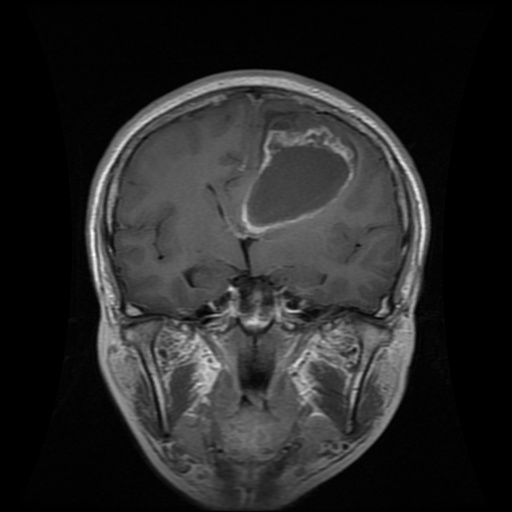glioma: (240, 115, 358, 237)
